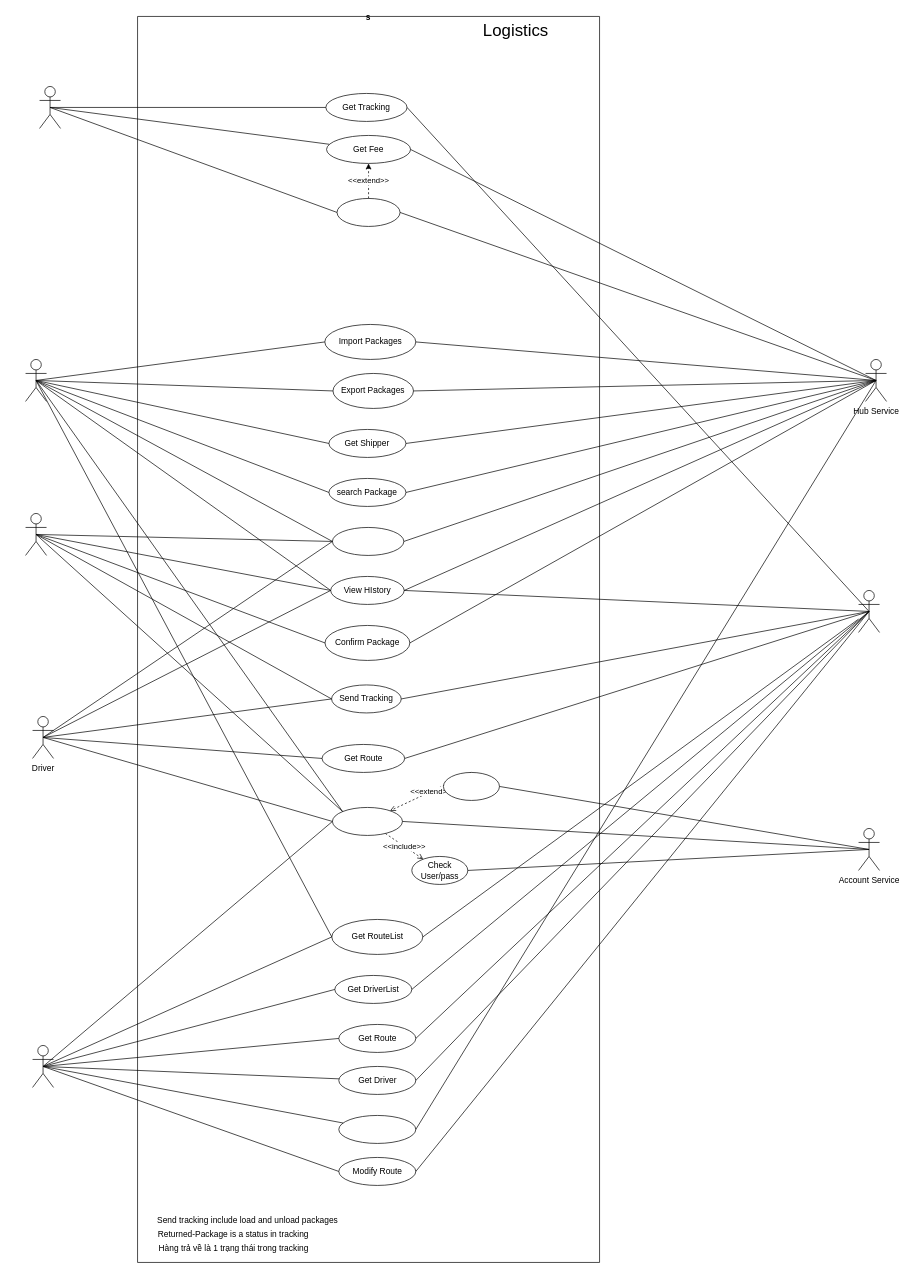
This 911x1275 diagram has some shape labels left out. The shapes that lost their labels are listed below. From the top down, each one's centre as x and y in pixels, then its label:
(x=50, y=107): Company API
(x=368, y=212): send Package
(x=36, y=380): Hub staff
(x=36, y=534): Shipper
(x=368, y=541): Get package list
(x=869, y=611): Divider Service
(x=471, y=786): Show Error
(x=367, y=821): Log In
(x=43, y=1066): Divider Manager
(x=377, y=1129): Get Package
